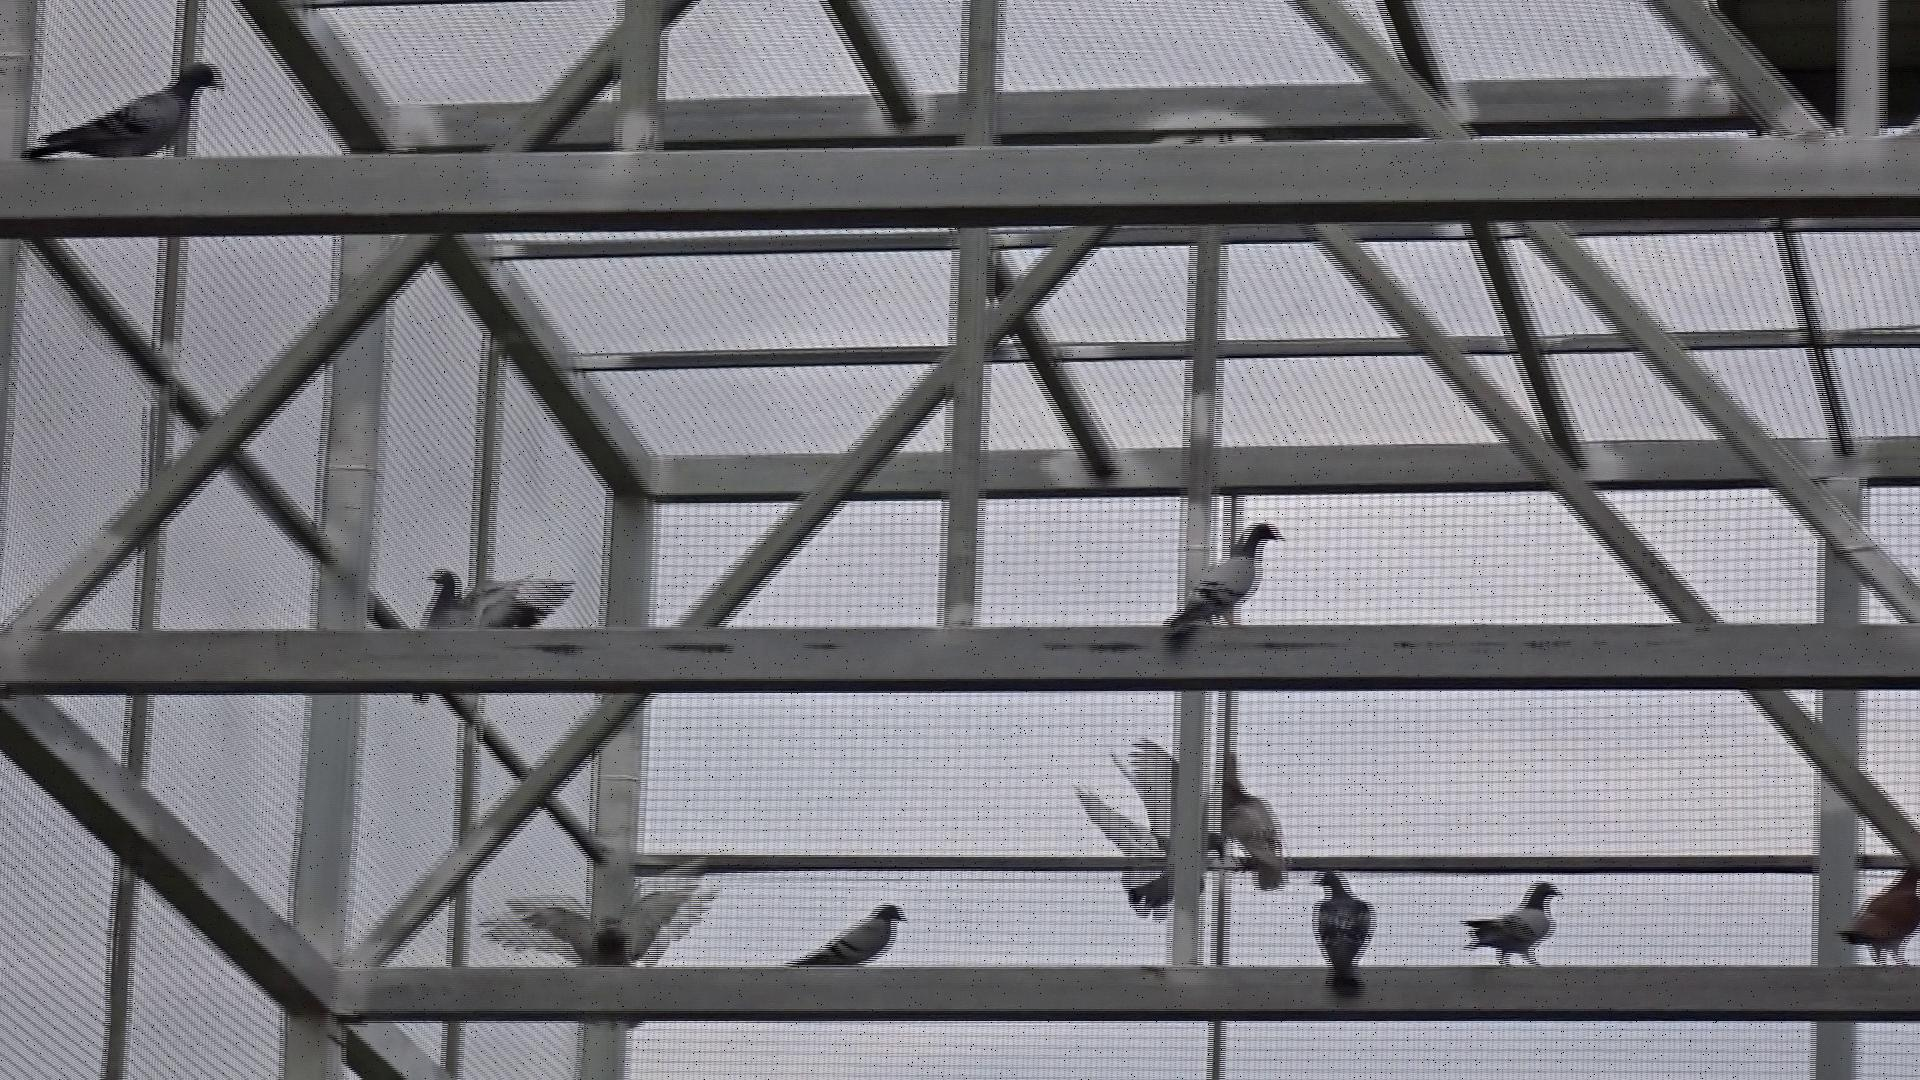bird: (479, 856, 721, 968), (1076, 737, 1226, 918), (407, 558, 578, 709), (20, 61, 225, 160), (1160, 517, 1284, 642), (1215, 738, 1291, 889), (1461, 881, 1569, 972), (777, 897, 909, 969), (1837, 856, 1920, 964), (1305, 869, 1374, 1000)
